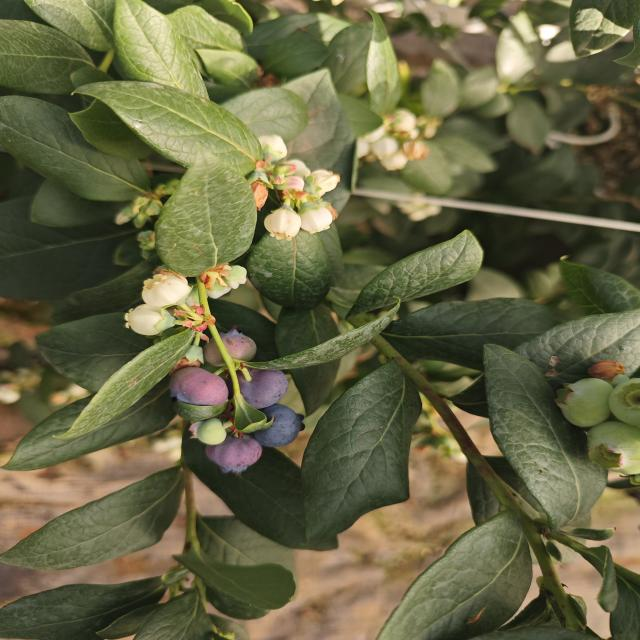ripe: (186, 434, 265, 472), (258, 406, 301, 444), (255, 367, 288, 400)
